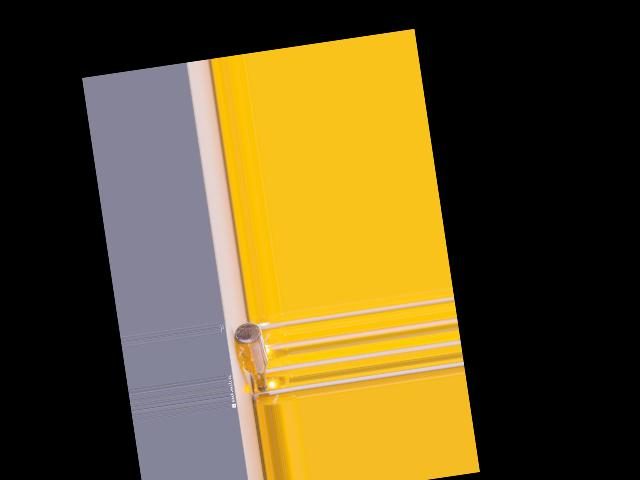beer: (231, 320, 272, 393)
